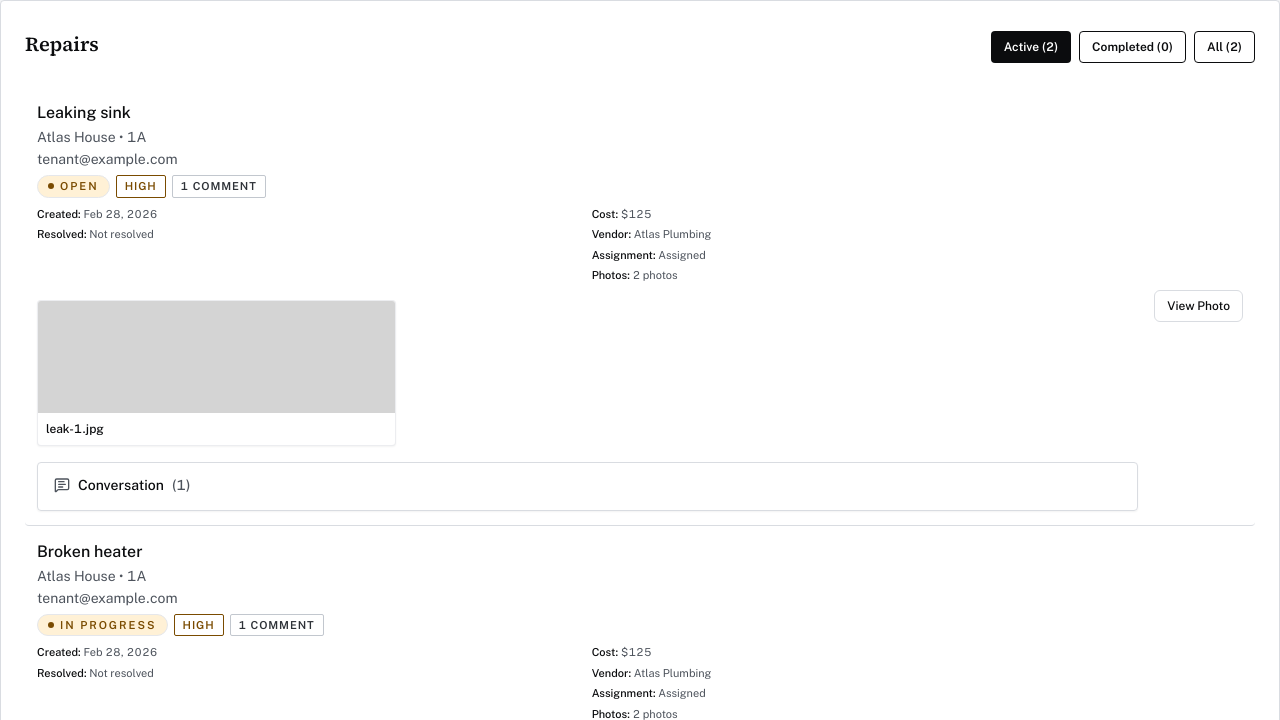
Test case: MaintenanceSection › shows the completed empty state when there are no completed tickets
Click the button "Completed (0)".
click(1133, 47)  # box [1079,31,1186,63]
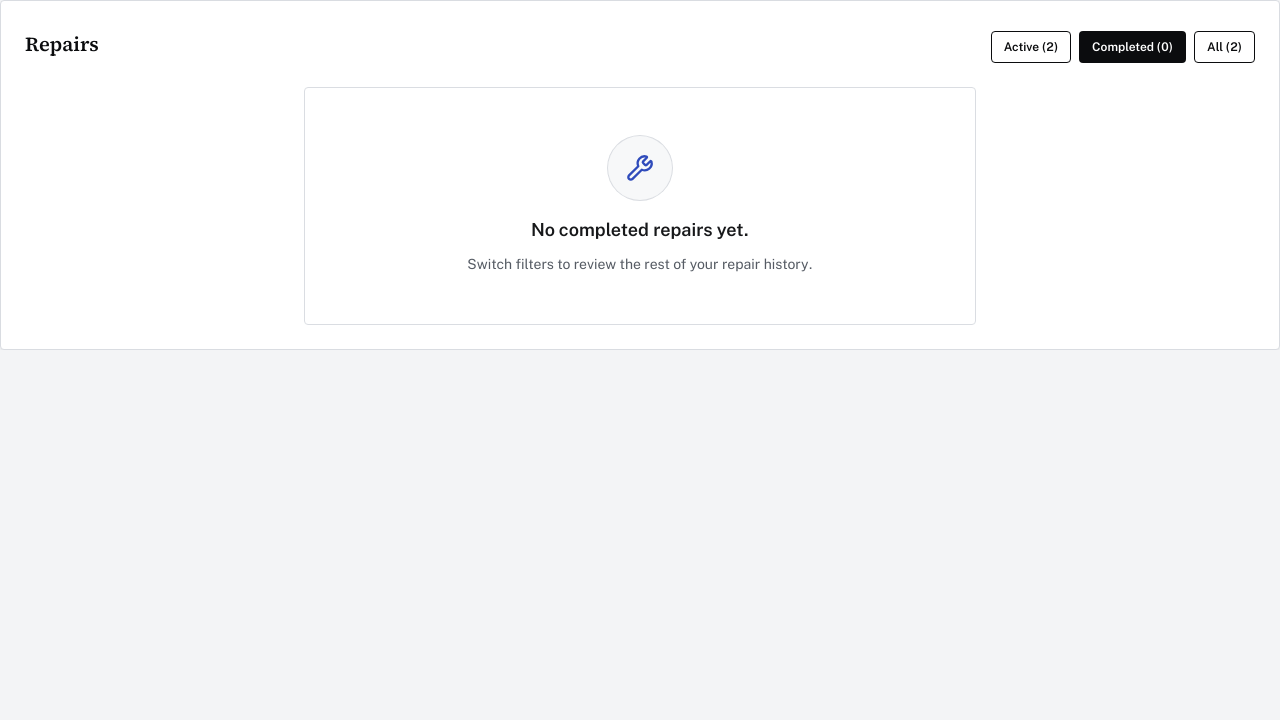
Expected: the heading "No completed repairs yet." is shown, [531,219,749,240]
